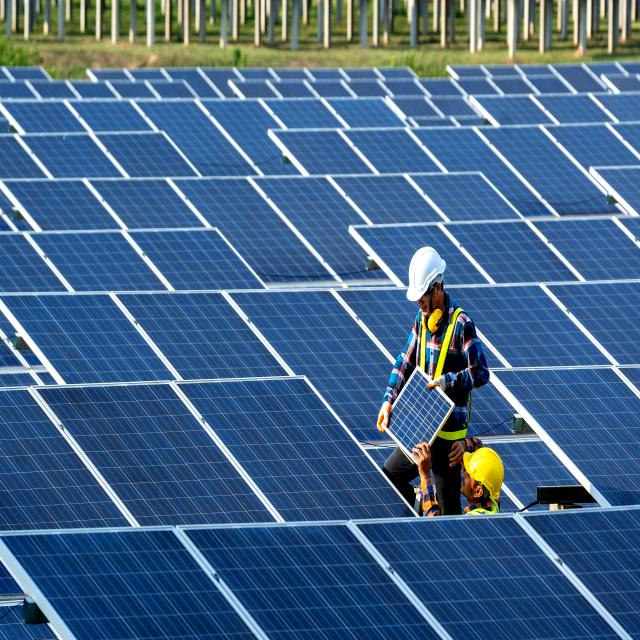crack: (167, 364, 429, 556), (28, 382, 286, 554), (350, 505, 640, 640), (172, 510, 472, 640), (238, 277, 431, 468), (3, 286, 202, 432), (3, 535, 260, 640), (484, 356, 640, 520), (1, 387, 126, 570), (114, 276, 286, 398), (517, 499, 640, 640), (14, 214, 172, 316), (131, 228, 283, 308)
